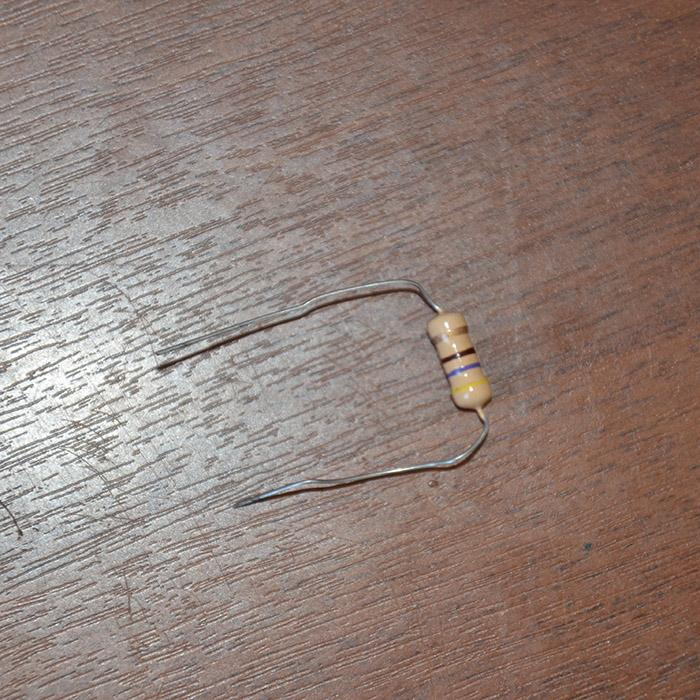resistor: (425, 309, 491, 410)
